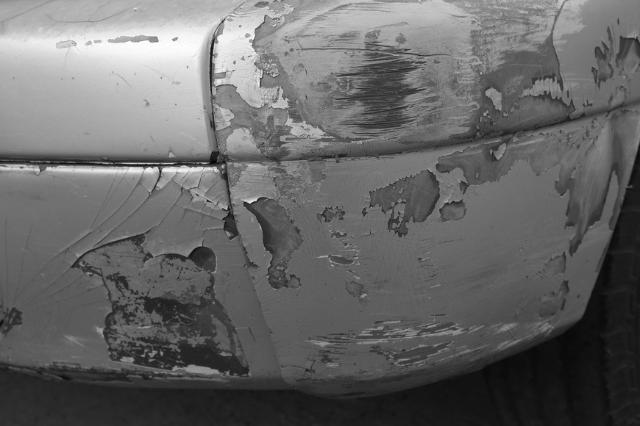Bumper: (0, 0, 640, 399)
